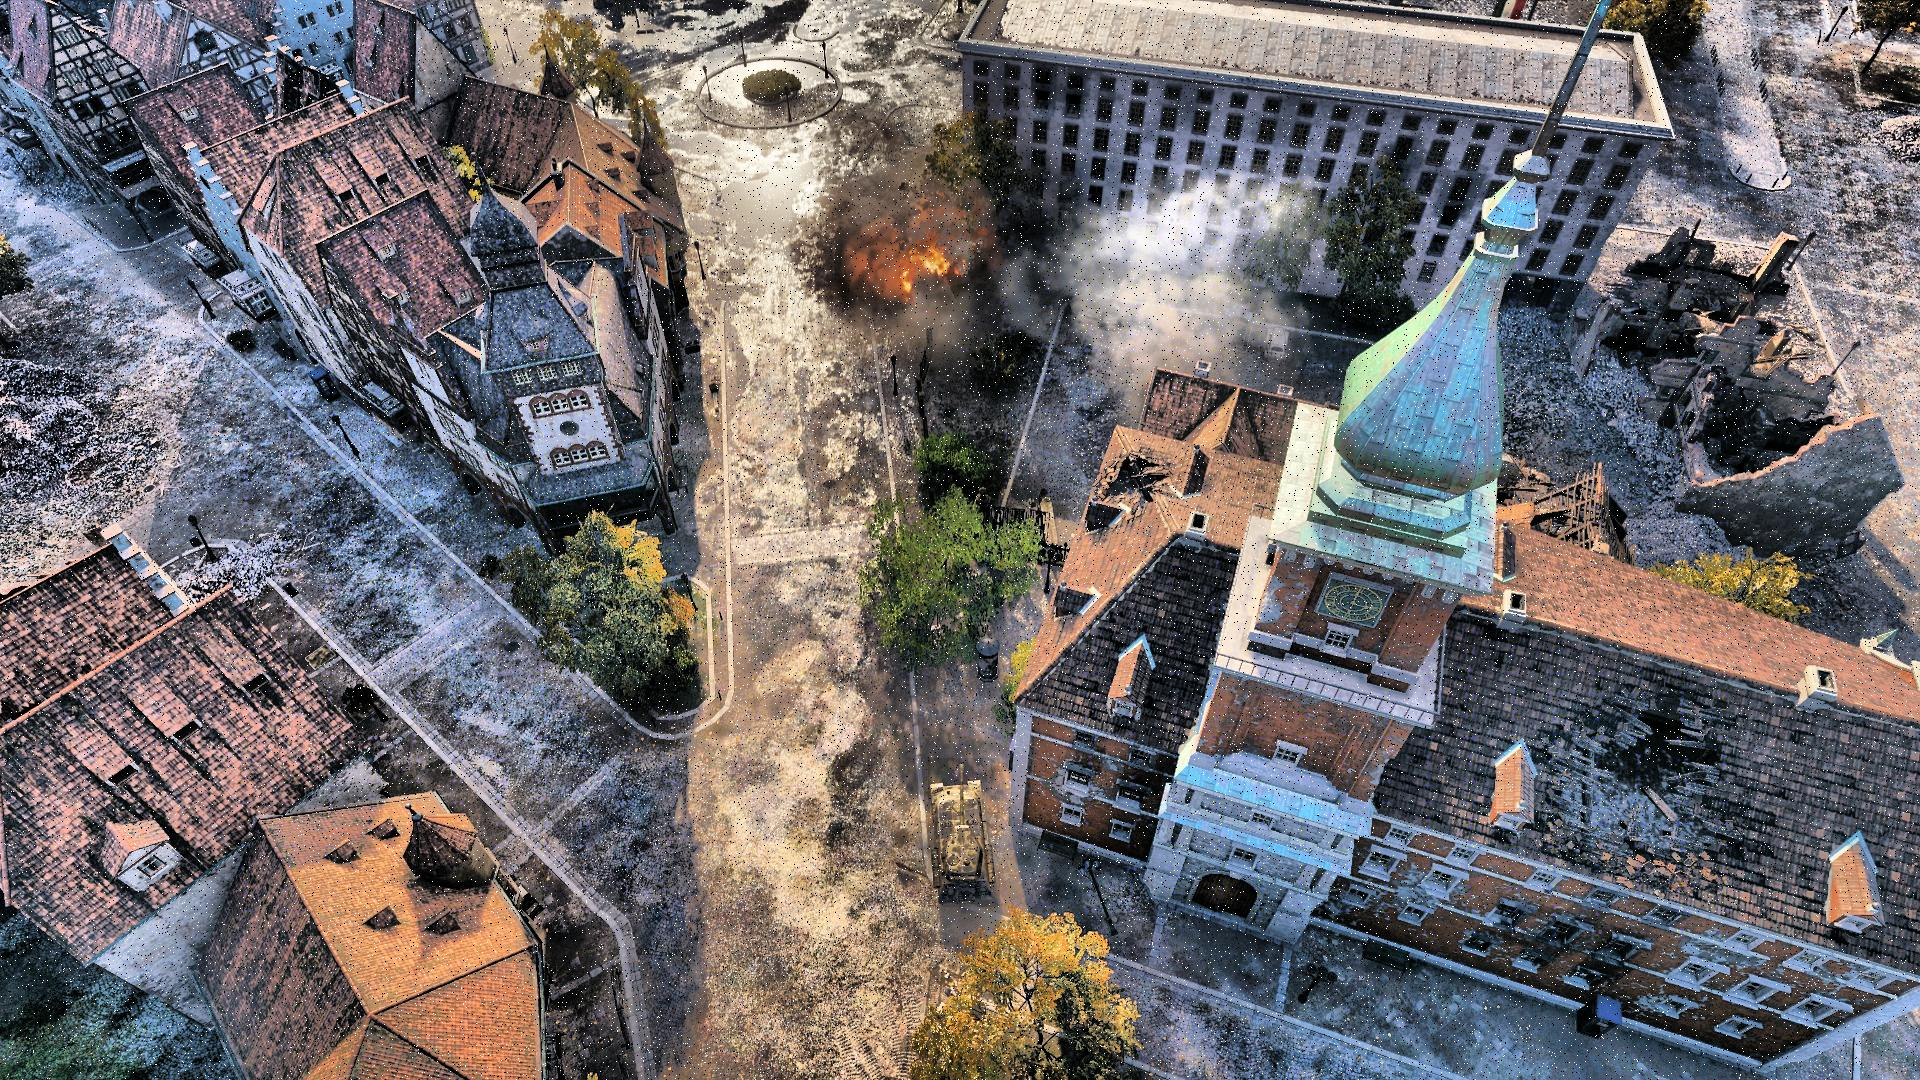military-vehicle: (928, 758, 1000, 907)
